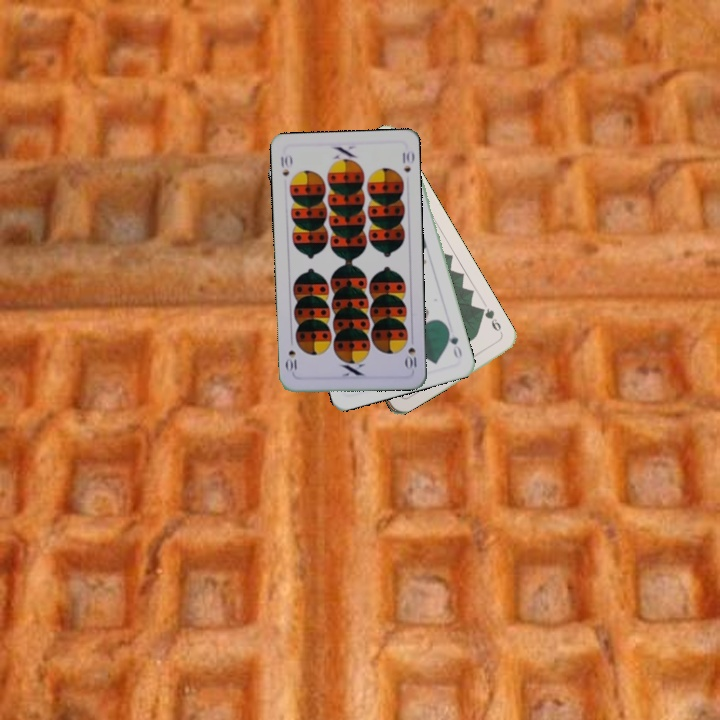G9: (476, 304, 505, 339)
GO: (443, 323, 465, 362)
S10: (402, 333, 419, 372), (277, 151, 294, 178)
